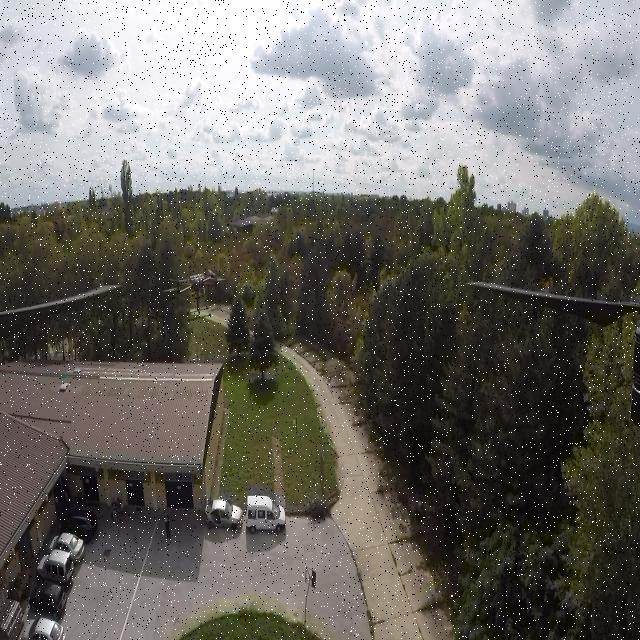UAV: (162, 262, 227, 324)
